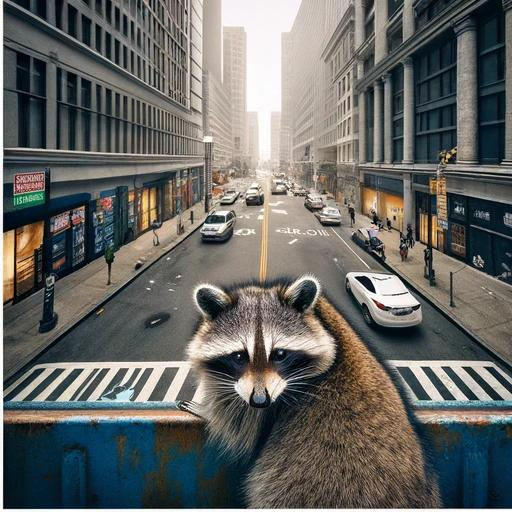raccoon: (180, 268, 449, 512)
